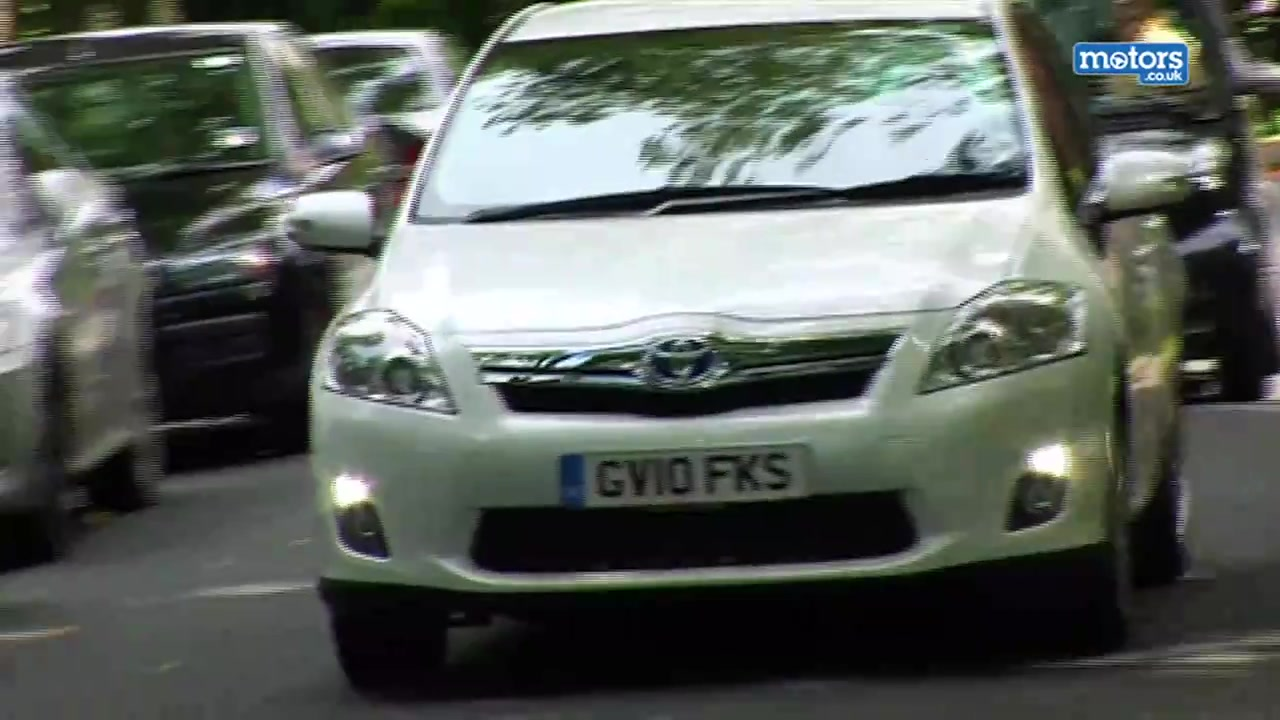car: (279, 3, 1189, 702), (4, 24, 389, 450), (1014, 1, 1280, 402), (1, 53, 170, 580), (299, 20, 451, 248)
